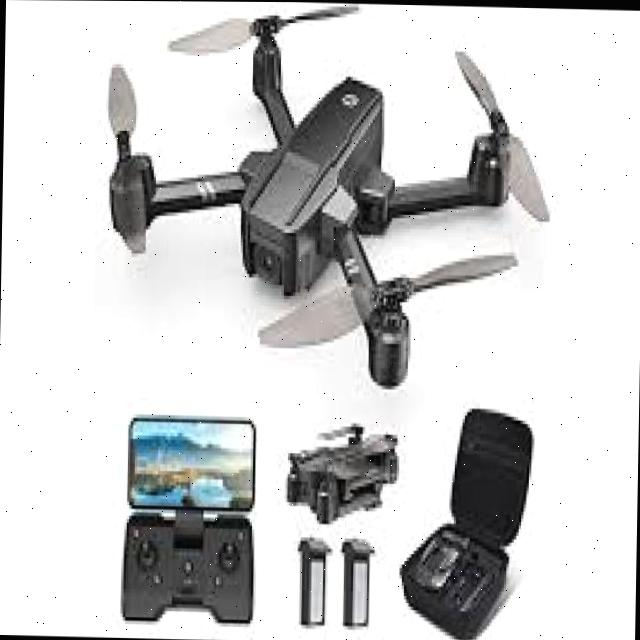drone: (75, 0, 555, 392)
